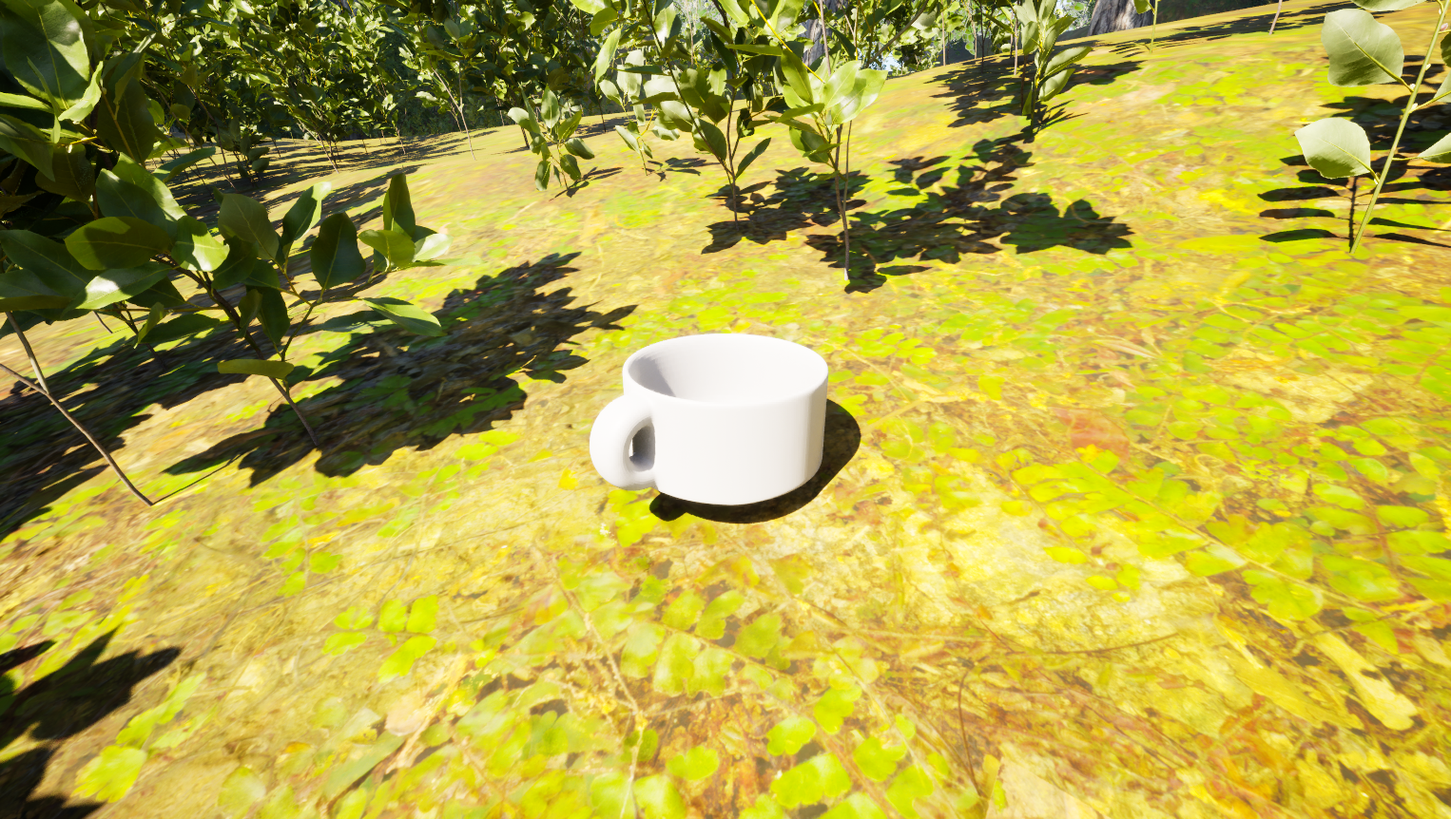Teacup: (582, 330, 858, 518)
